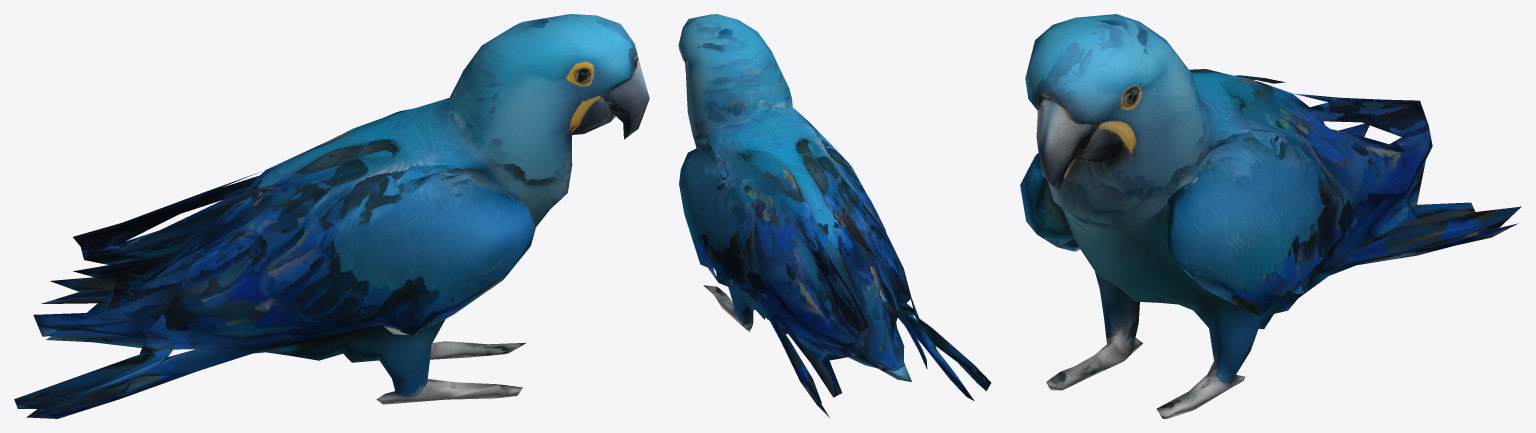
File: parrot_blue_single_1500.glb
3 renders of one model, left to right at view 1: azimuth 30°, elevation 25°; view 2: azimuth 150°, elevation 25°; view 3: azimuth 270°, elevation 25°, orthographic. The views are drawn at different scales.
Bounding box in the file's own units: 0.8306 × 0.5395 × 0.5895.
1 material, 1 textured.
